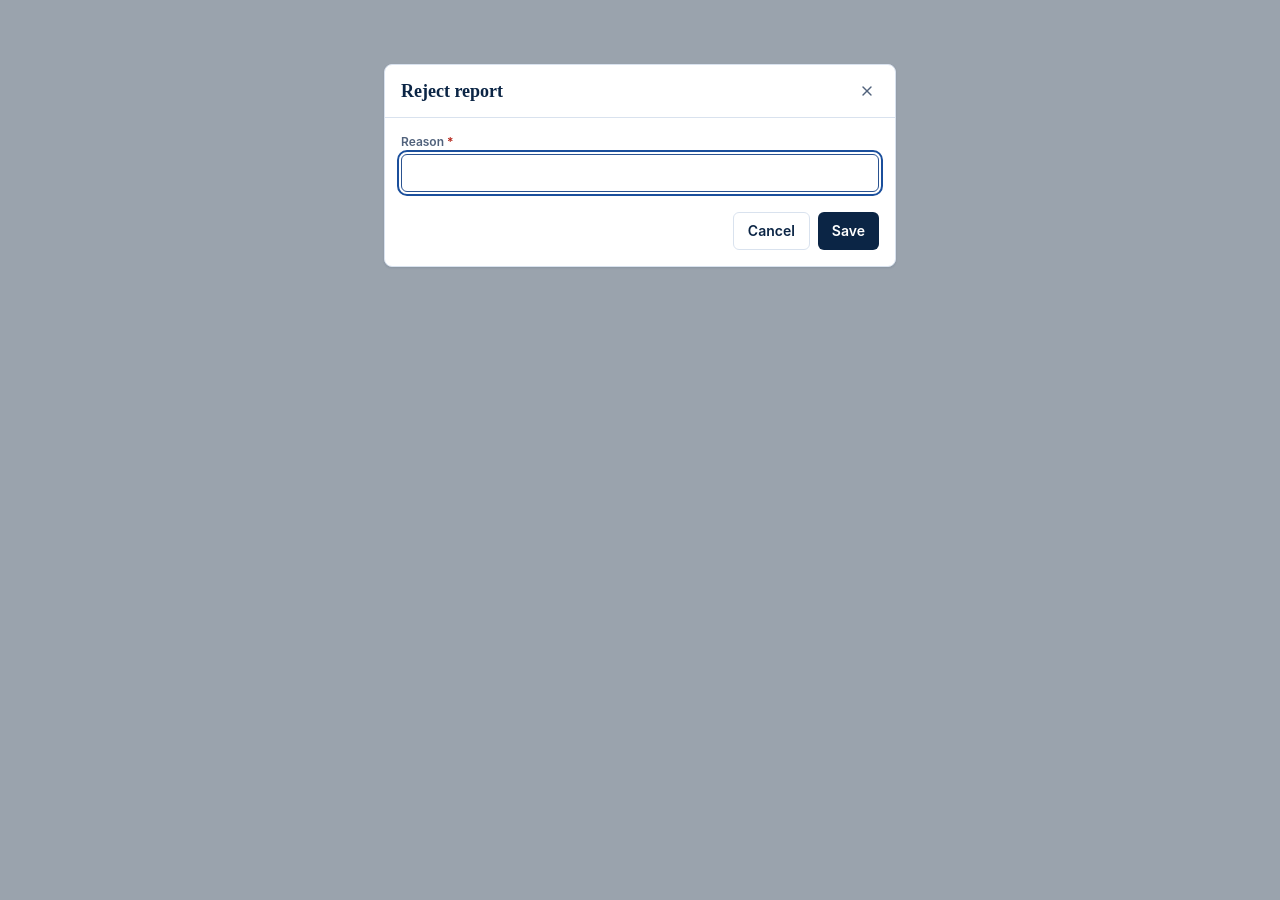
Test: FormDialog validation › blocks submit and shows accessible errors for missing mandatory reason
The image size is (1280, 900).
Later steps or results of the test are not shown.
Click the button "Save" at (848, 231), box [818,212,879,250]
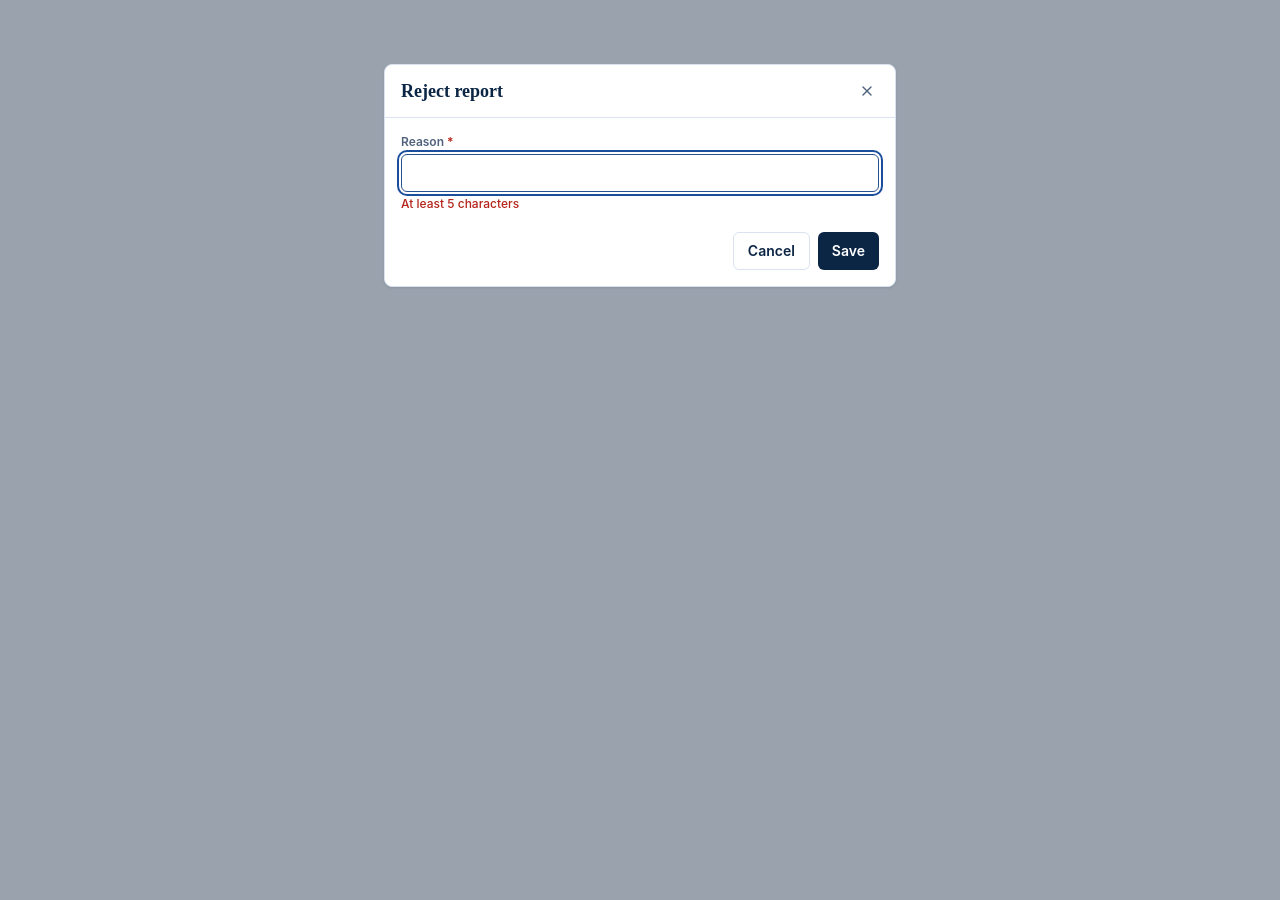
Now the message "At least 5 characters" is shown, box [401,196,519,211]
